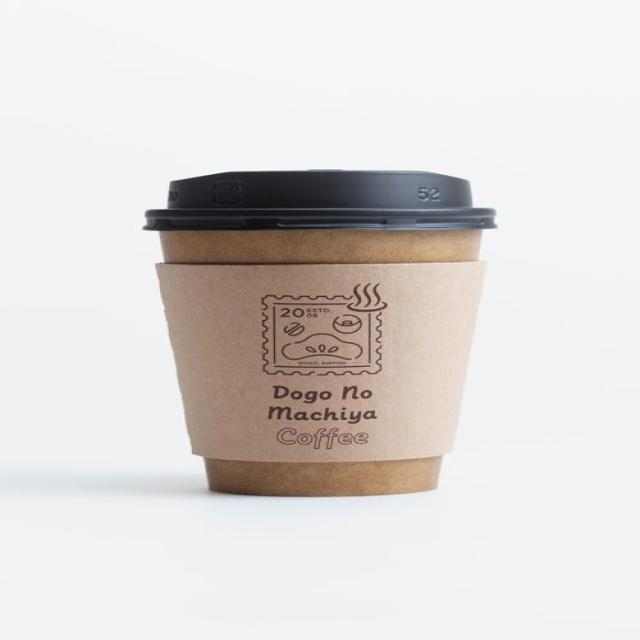paper cup: (141, 169, 498, 495)
